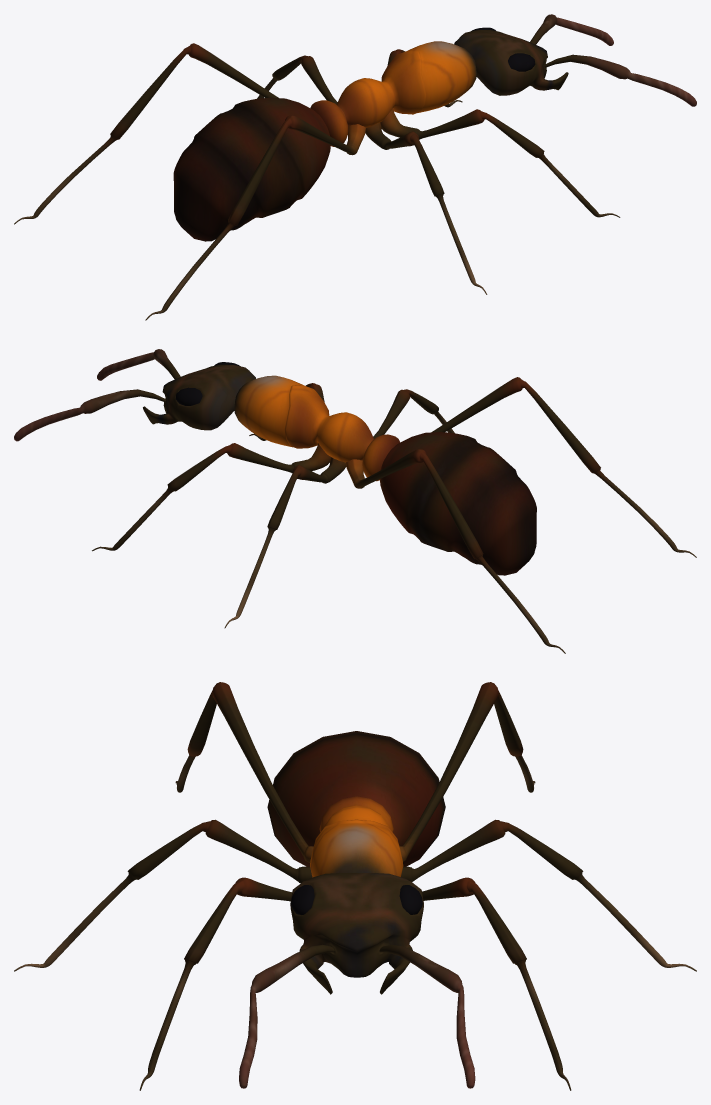
Rendered from fire-ant.obj.
The picture shows the model from 3 angles, top to bottom: view 1: azimuth 30°, elevation 25°; view 2: azimuth 150°, elevation 25°; view 3: azimuth 270°, elevation 25°; orthographic projection. The views are drawn at different scales.
Visible parts, largest first — view 1: Fire_Ant; view 2: Fire_Ant; view 3: Fire_Ant.
Part boxes in pixels (left/top/right/bottom): Fire_Ant: left=14, top=14, right=696, bottom=320; Fire_Ant: left=14, top=349, right=696, bottom=653; Fire_Ant: left=14, top=682, right=696, bottom=1090.
Size of the model in its own units: 2.3 by 0.5861 by 1.73.
1 material, 1 textured.
